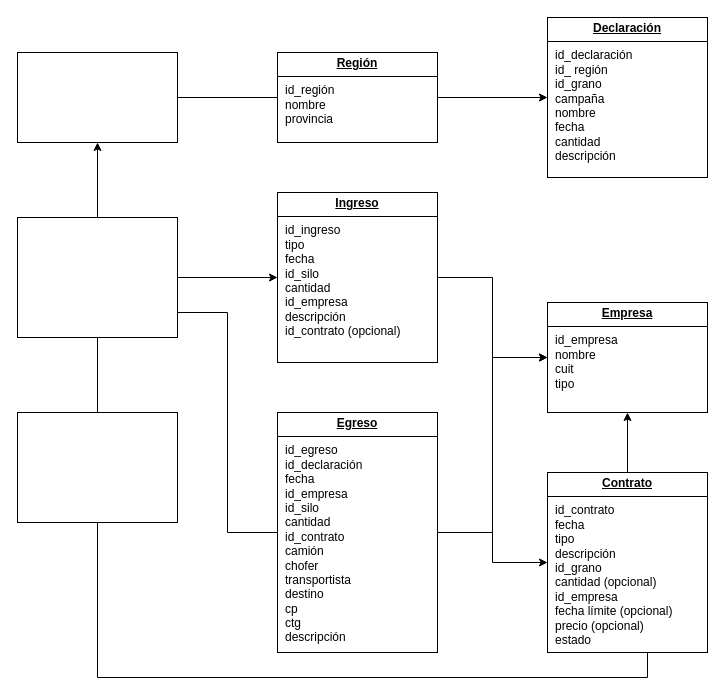
This 725x696 diagram has some shape labels left out. The centre of each missing label's shape, as x and y in pixels:
Campo id_campo nombre id_región: (x=97, y=97)
Grano id_grano nombre descripción: (x=97, y=467)
Silo id_silo nombre id_campo id_grano cantidad: (x=97, y=277)
